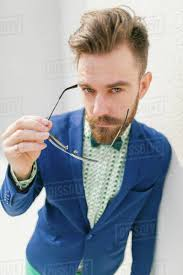middle_eastern_male: (66, 30, 144, 146)
